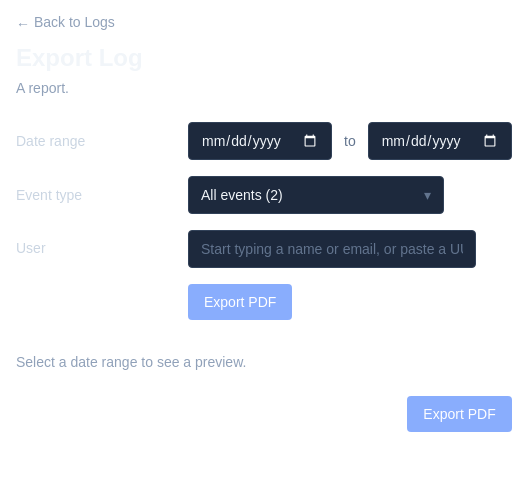
Test: LogExportPage › shows a preview failure instead of rows
The image size is (529, 477).
In the 1st date field: (260, 141) top-left (188, 122), bottom-right (332, 160), type "2026-10-01"
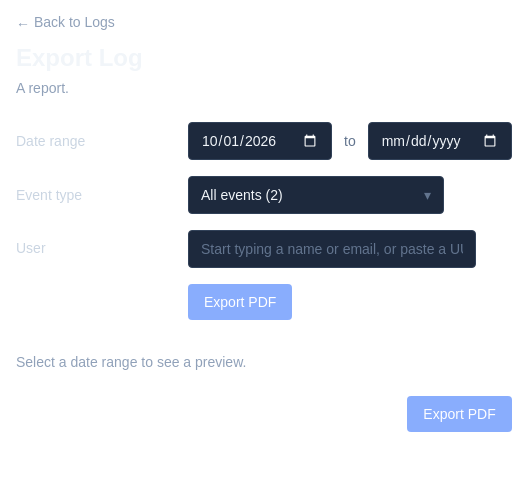
In the 2nd date field: (440, 141) top-left (368, 122), bottom-right (512, 160), type "2026-10-07"
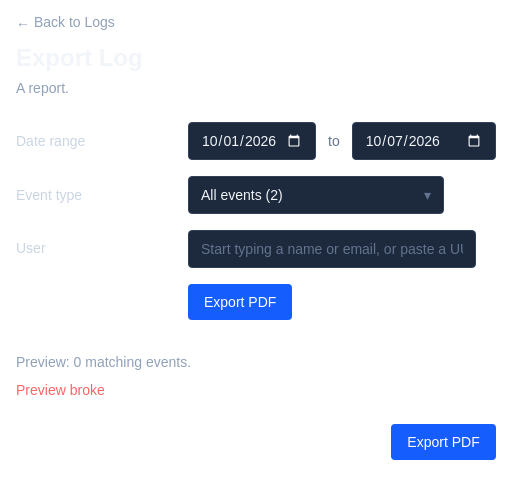
Now the text "Preview broke" is shown, box top-left (16, 382), bottom-right (105, 398)
